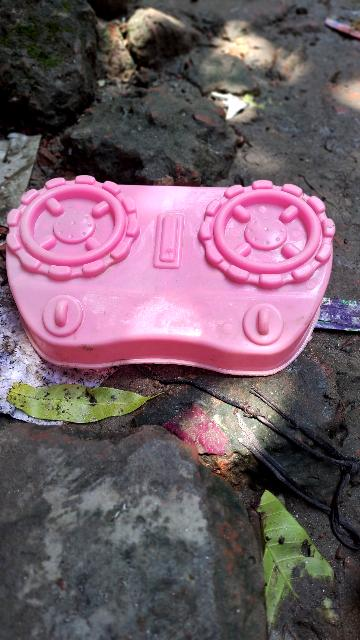hardplastic: (6, 177, 342, 375)
